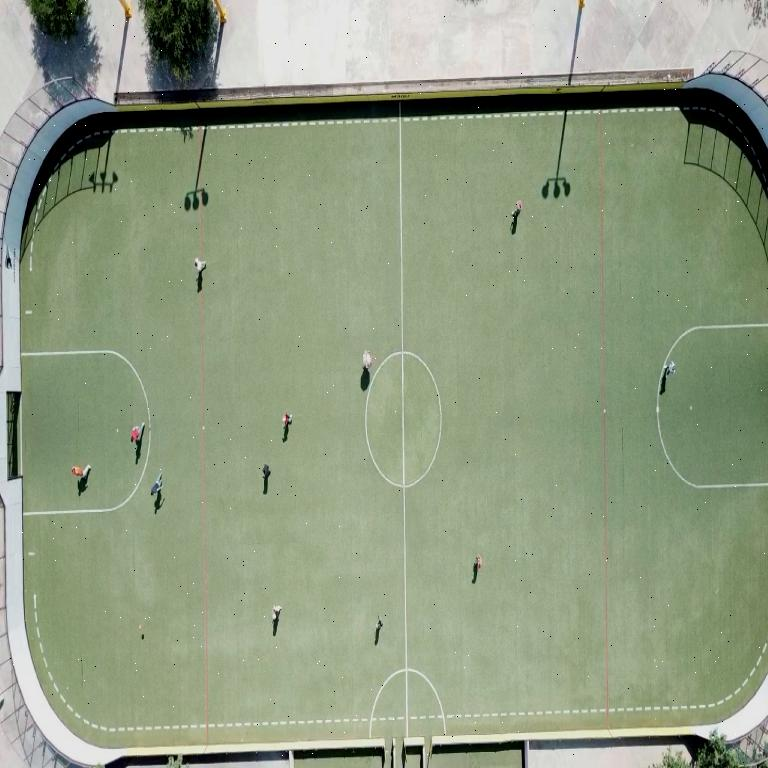AC: (656, 393, 768, 489), (21, 349, 151, 429), (25, 451, 148, 515), (665, 323, 768, 363)
B: (139, 624, 142, 629)
MC: (399, 105, 410, 735)
P: (71, 464, 90, 478), (130, 423, 144, 441), (150, 473, 161, 495), (362, 350, 371, 370), (194, 260, 205, 274), (664, 362, 675, 376), (271, 605, 280, 621), (282, 413, 291, 427), (262, 464, 269, 479), (474, 555, 481, 570), (514, 200, 521, 215), (376, 615, 382, 631)
